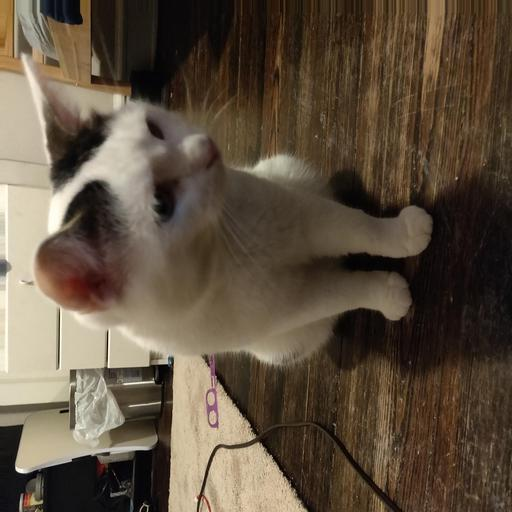cat: (22, 51, 339, 368)
